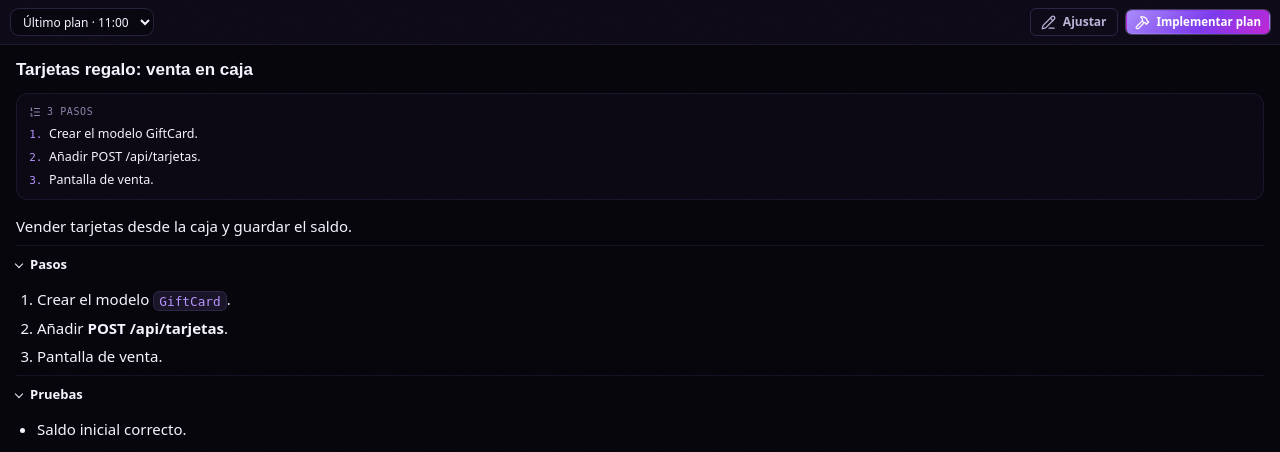
la vista enseña el último plan con sus pasos y deja elegir los anteriores
expect the heading "Tarjetas regalo: venta en caja" is shown: met, box [16,60,253,79]
expect the element "3 pasos" is shown: met, box [16,93,1264,200]
Select "Plan de las 10:00" in the dropdown named "Plan" at {"x": 82, "y": 22}, box [10,8,154,36]
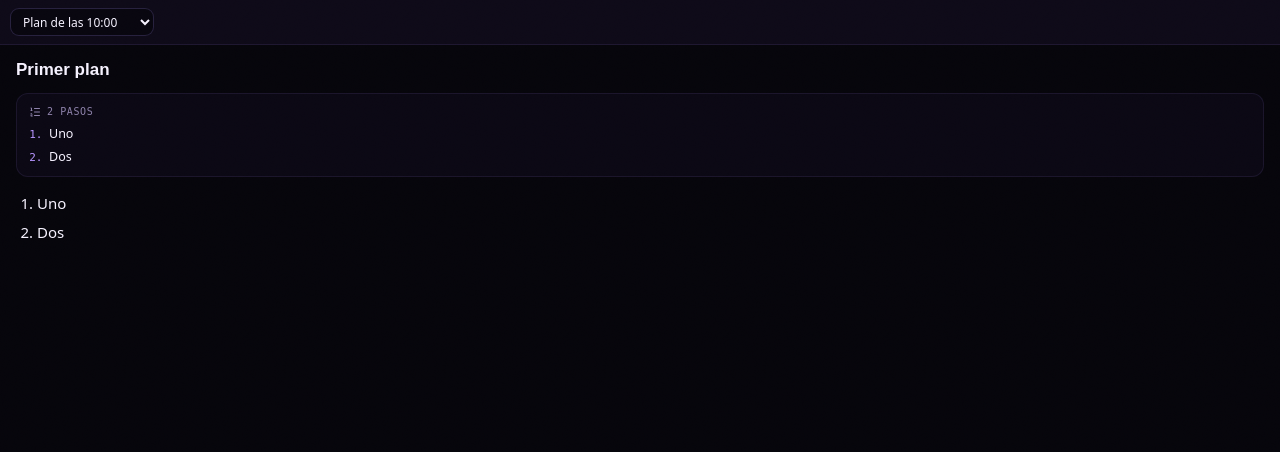
expect the button "Implementar plan" is gone: met
